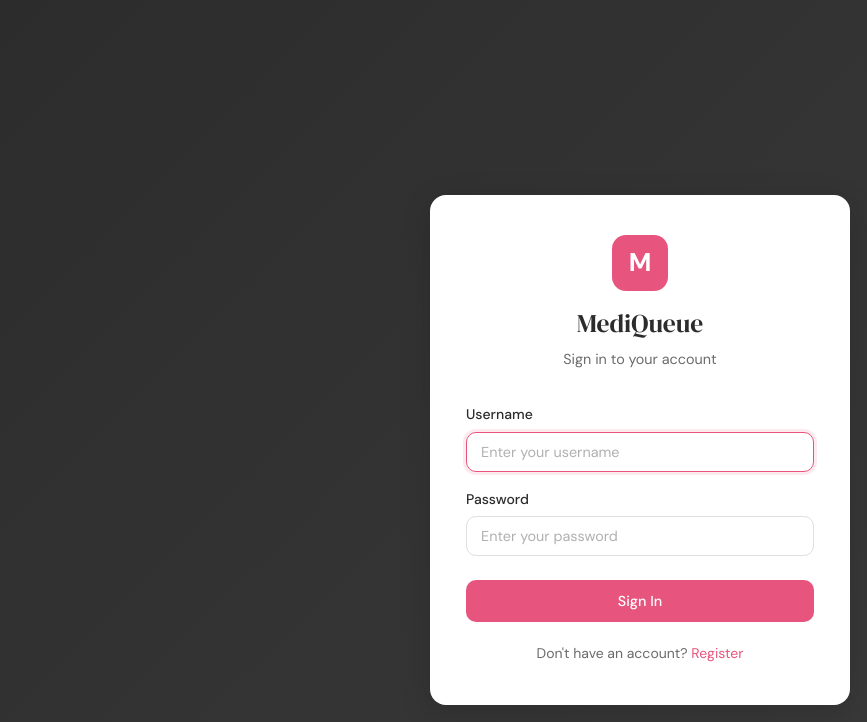
Test: LoginPage › button shows loading state while logging in
The width and height of the screenshot is (867, 722).
Step 1. Type "a" into the field labelled "Username" → (640, 452), box x1=466 y1=432 x2=814 y2=472
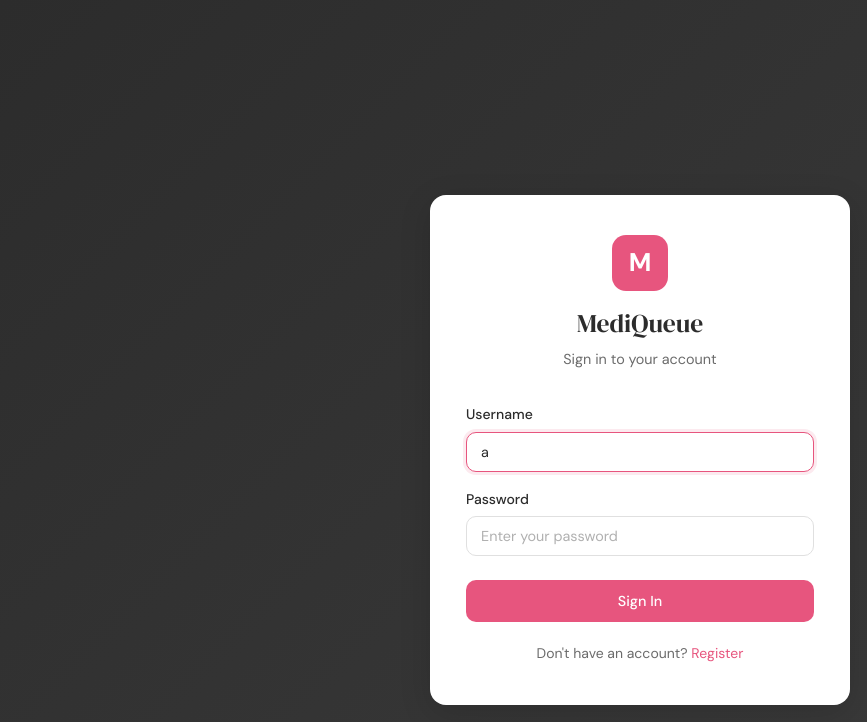
Step 2. Type "b" into the password field labelled "Password" → (640, 536), box x1=466 y1=516 x2=814 y2=556
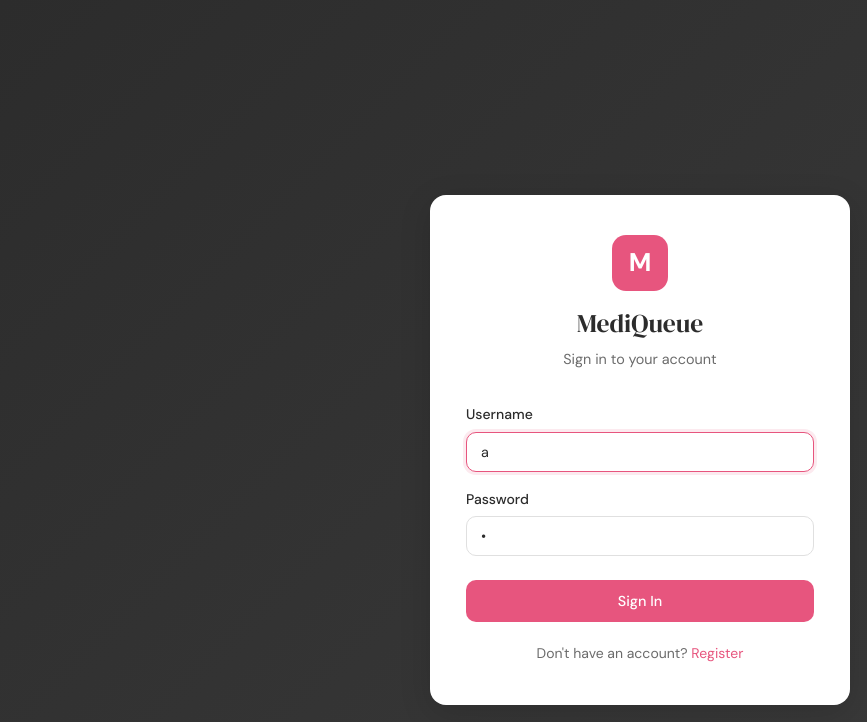
Step 3. Click the button "Sign In" → (640, 601), box x1=466 y1=580 x2=814 y2=622
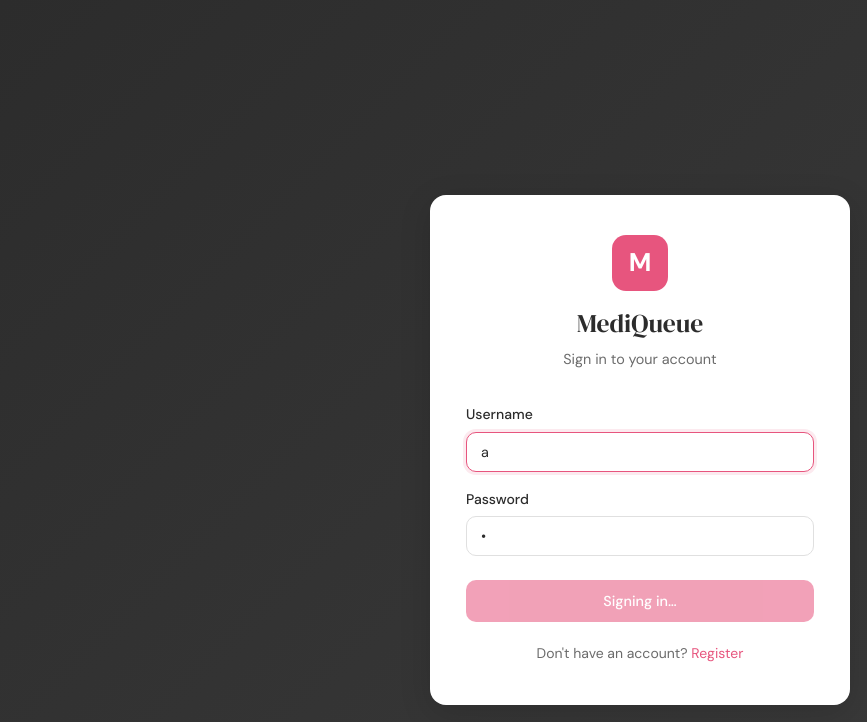
Expected: the button "Signing in…" is disabled, x1=466 y1=580 x2=814 y2=622
